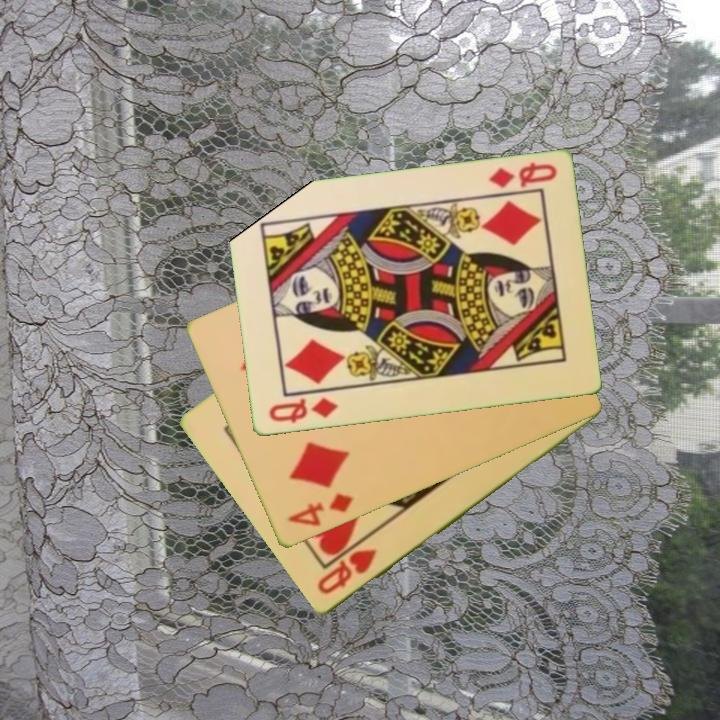4d: (285, 489, 356, 530)
Qd: (265, 394, 340, 427), (485, 159, 560, 191)
Qh: (313, 546, 380, 598)
